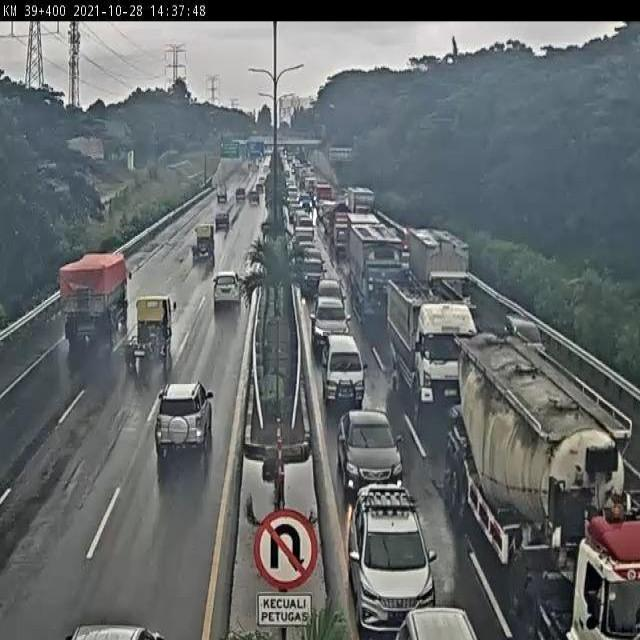big truck: (430, 328, 632, 640), (377, 268, 493, 407), (48, 225, 146, 359), (340, 225, 435, 335)
car: (338, 480, 446, 635), (324, 407, 421, 500), (147, 371, 219, 457), (58, 598, 202, 640), (502, 286, 556, 370), (397, 601, 491, 640), (309, 284, 356, 355), (207, 264, 256, 317), (298, 256, 328, 299), (212, 204, 236, 233)
small bus: (310, 333, 388, 416)
small truck: (116, 286, 179, 382), (182, 219, 231, 272), (208, 171, 229, 205)
